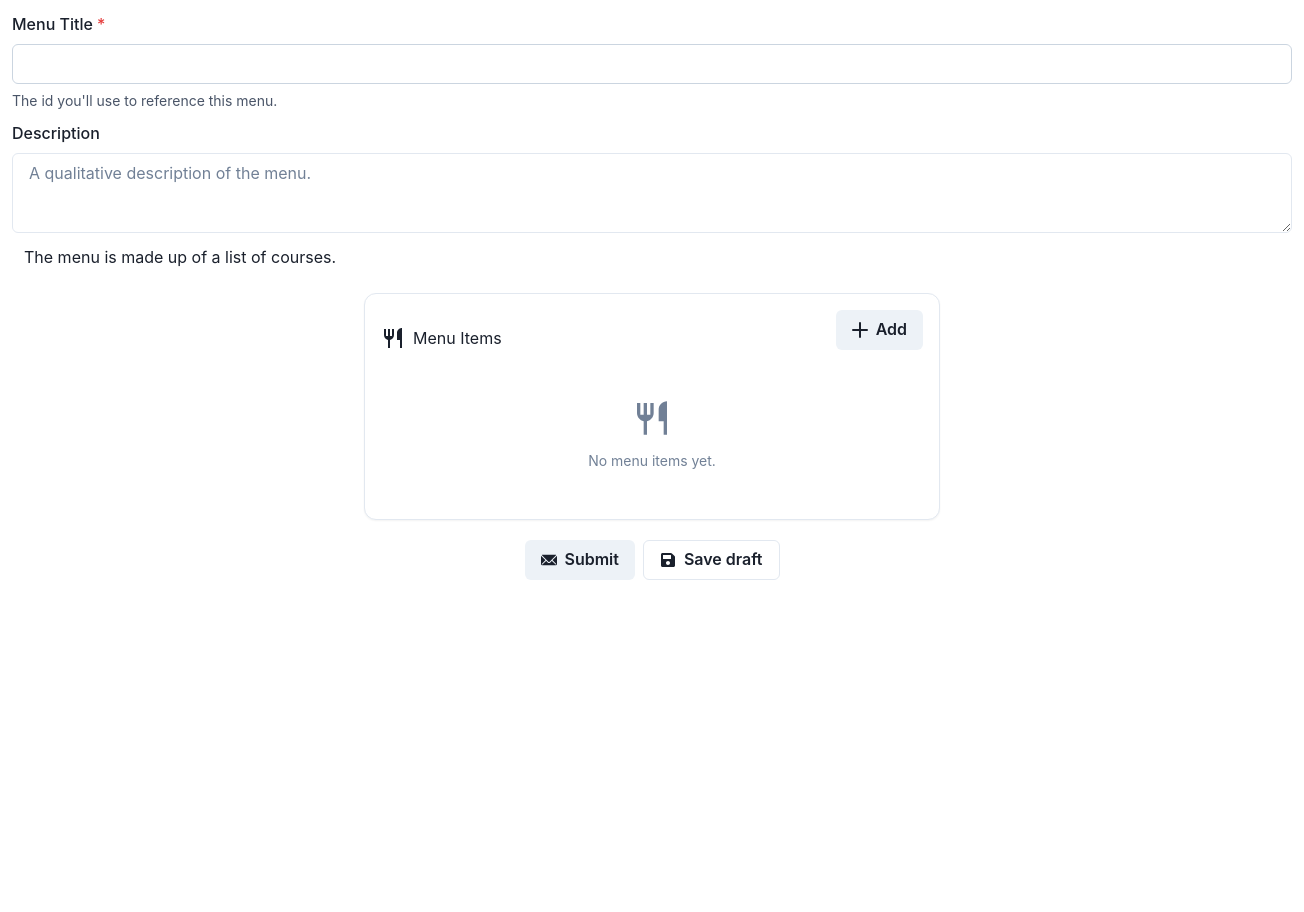
Test: MenuRequestForm › Save draft functionality › shows error toast when saving draft without title
Try to save draft without title
Click the button "Save draft" at (711, 560), box [643,540,780,580]
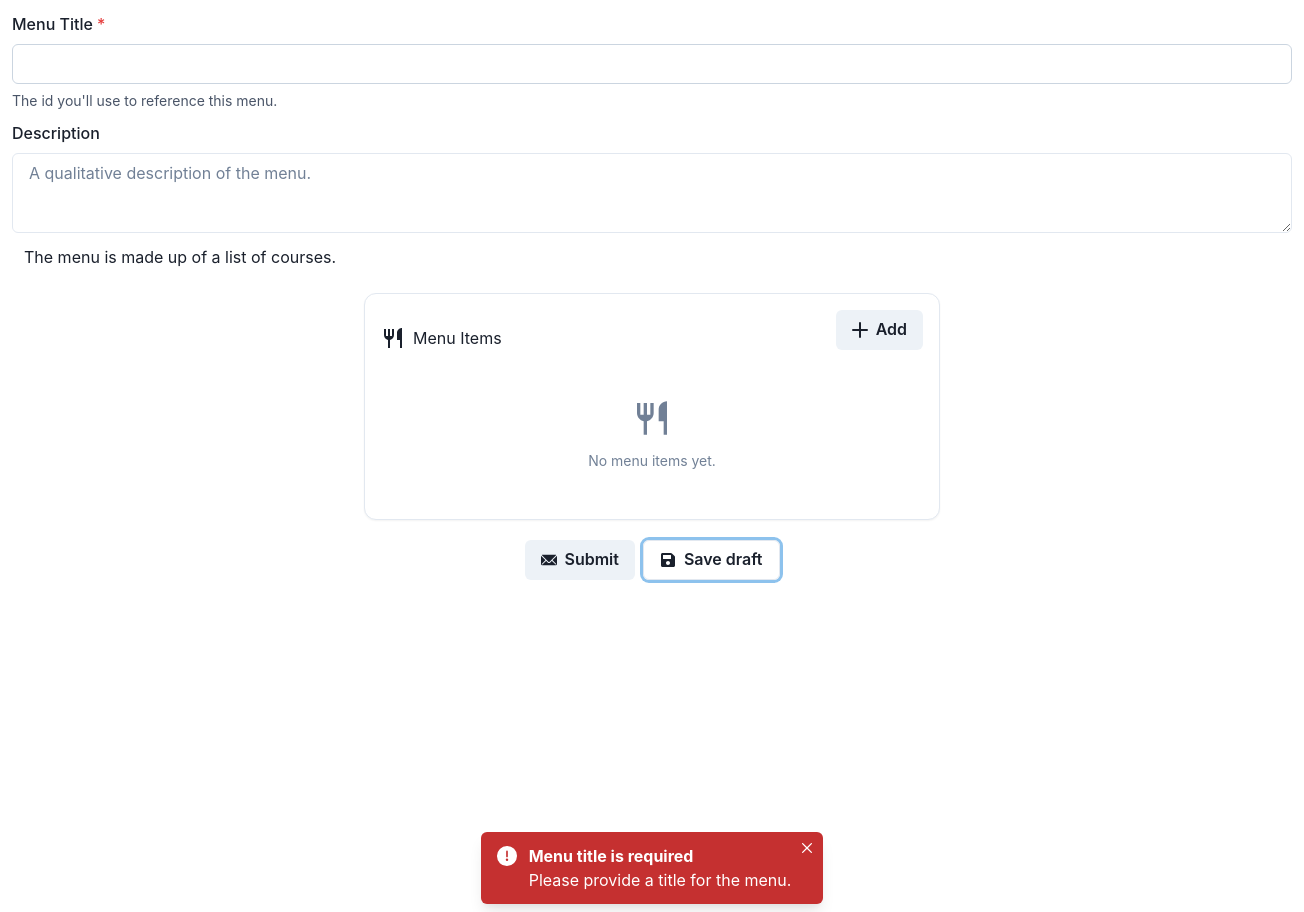
expect the text "Menu title is required" is shown: met, box [529,846,694,866]
